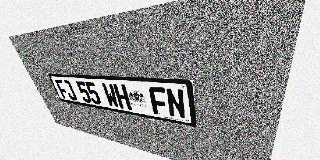5: (84, 82, 102, 105), (75, 81, 93, 103)
F: (148, 86, 169, 116), (54, 79, 70, 100)
H: (113, 84, 132, 110)
J: (62, 80, 78, 101)
N: (165, 88, 186, 119)
W: (101, 83, 120, 108)
